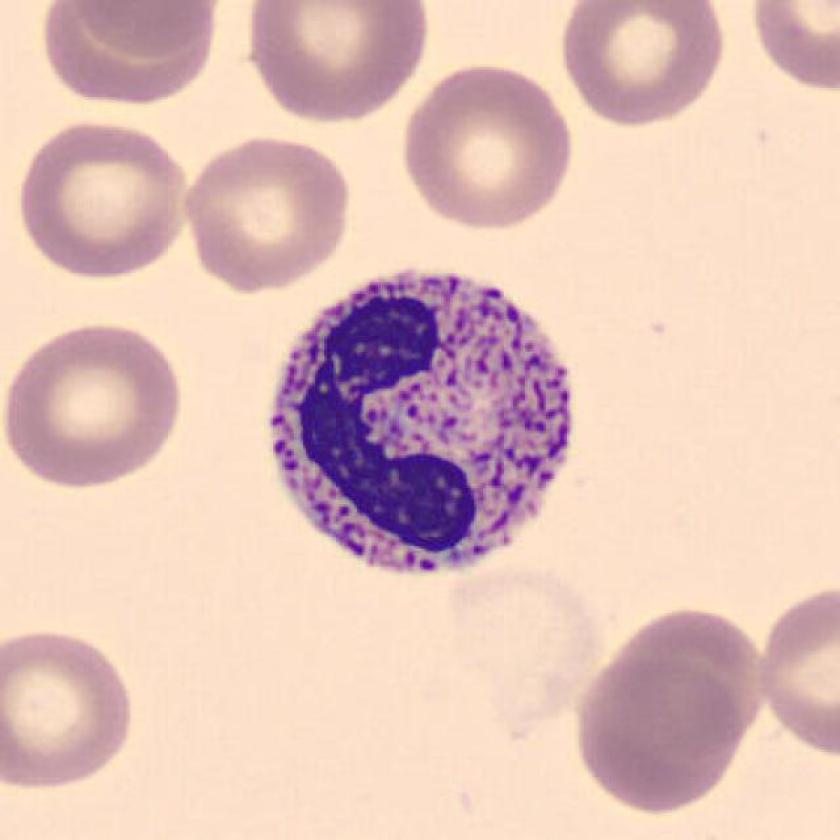neutrophil: (273, 271, 571, 572)
